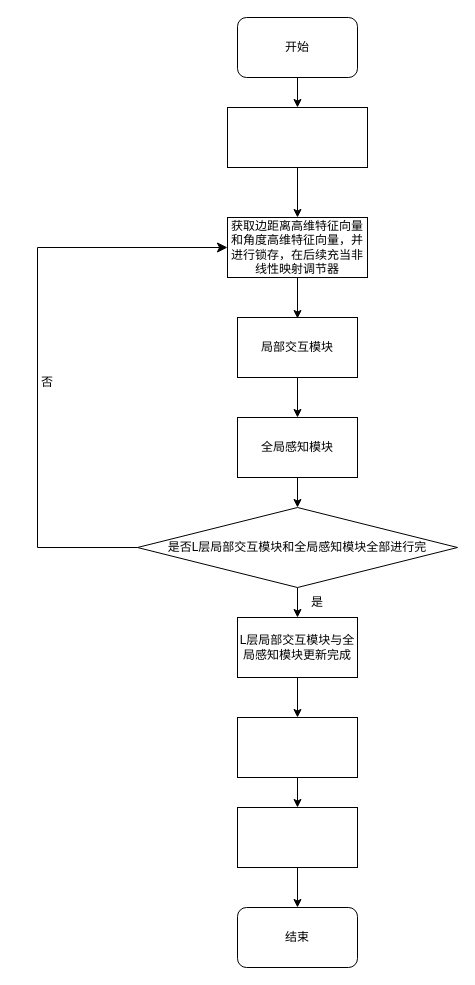
The diagram is 475 pixels wide and 985 high, and some of its shapes have lost their labels. The shapes that lost their labels are listed below. From the top down, each one's box as (x1, y1, x2, y2) in pixels, then its label:
(226, 106, 368, 168): 遍历所有节点，对具有真实物理化学属性的节点和物理缺失的节点分别构建初始节点隐藏状态
(236, 716, 358, 778): 对全部节点进行全局读出
(236, 806, 358, 868): 生成代表当前二维材料的全局综合表征向量
